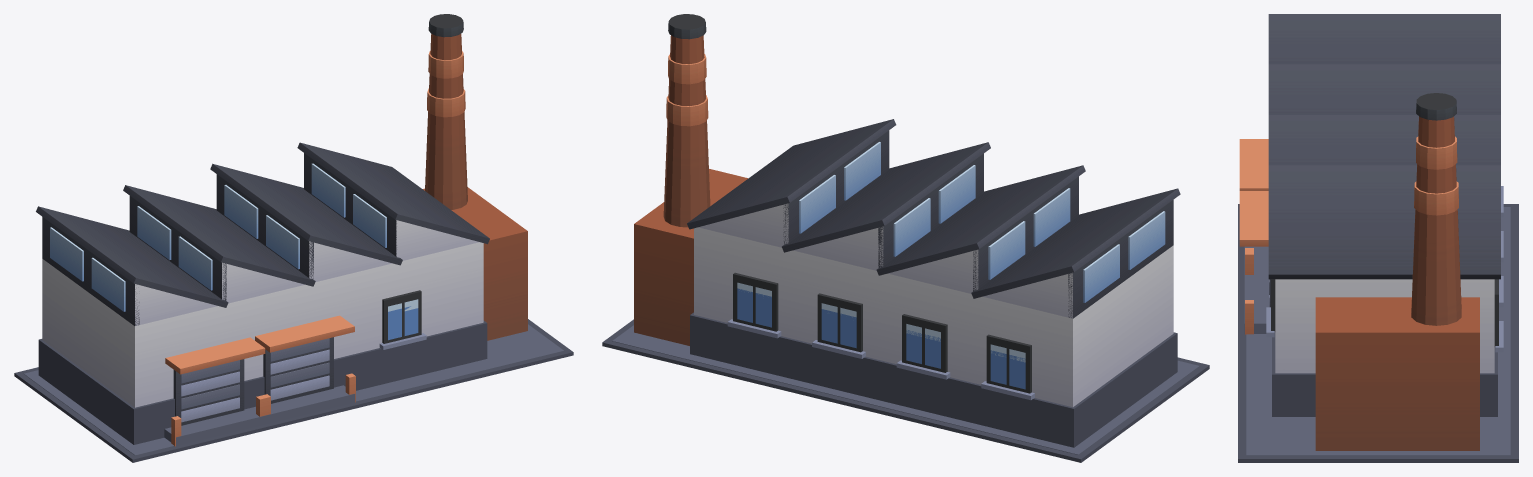
The model's file is ind_sawtooth_mill_2x1.glb.
3 renders of one model, left to right at view 1: azimuth 30°, elevation 25°; view 2: azimuth 150°, elevation 25°; view 3: azimuth 270°, elevation 25°, orthographic. The views are drawn at different scales.
Parts seen in each view (by area): view 1: ind_sawtooth_mill_2x1; view 2: ind_sawtooth_mill_2x1; view 3: ind_sawtooth_mill_2x1.
Boxes of the visible parts, x1,y1,x2,y2 form: ind_sawtooth_mill_2x1: (14,14,573,462); ind_sawtooth_mill_2x1: (602,14,1209,462); ind_sawtooth_mill_2x1: (1238,14,1518,462).
Bounding box in the file's own units: 3.74 × 2.3 × 1.74.
1 material, 1 textured.
